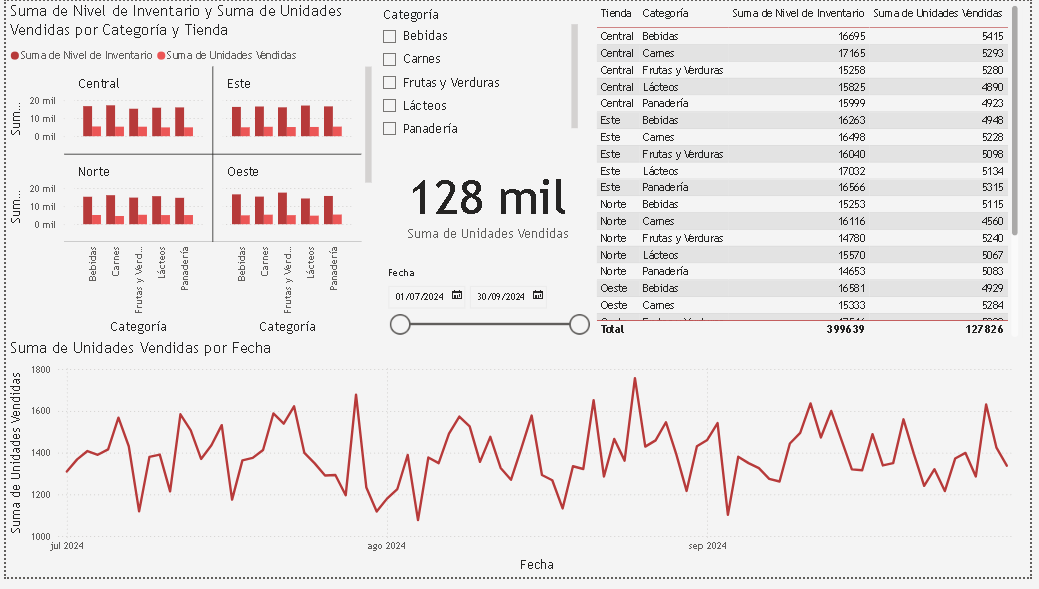

Layout of this report page (visuals, bound fields, positions):
{"tool":"powerbi","page":{"name":"Página 1","canvas":[1280,720],"ordinal":0},"visuals":[{"type":"card","fields":{"Values":["Sum(Supermecado.Unidades Vendidas)"]},"box":[471.2,176.2,261.2,150],"z":0},{"type":"slicer","fields":{"Values":["Supermecado.Fecha"]},"box":[465,326.2,273.8,95],"z":1000},{"type":"slicer","fields":{"Values":["Supermecado.Categoría"]},"box":[458.8,0,261.2,176.2],"z":2000},{"type":"tableEx","fields":{"Values":["Supermecado.Tienda","Supermecado.Categoría","Sum(Supermecado.Nivel de Inventario)","Sum(Supermecado.Unidades Vendidas)"]},"box":[732.5,0,538.5,425.4],"z":3000},{"type":"clusteredColumnChart","fields":{"Y":["Sum(Supermecado.Nivel de Inventario)","Sum(Supermecado.Unidades Vendidas)"],"Category":["Supermecado.Categoría"],"Rows":["Supermecado.Tienda"]},"box":[0,0,462.5,425],"z":4000},{"type":"lineChart","fields":{"Y":["Sum(Supermecado.Unidades Vendidas)"],"Category":["Supermecado.Fecha"]},"box":[0,425.4,1280,294.3],"z":5000}]}

Visuals, with their boxes in screenshot pixels (x1, y1, x2, y2), scaled from the page's 1280x720 canvas onto the 1039x589 screenshot:
card - Sum(Supermecado.Unidades Vendidas): locate(382, 144, 595, 267)
slicer - Supermecado.Fecha: locate(377, 267, 600, 345)
slicer - Supermecado.Categoría: locate(372, 0, 584, 144)
tableEx - Supermecado.Tienda x Supermecado.Categoría: locate(595, 0, 1032, 348)
clusteredColumnChart - Sum(Supermecado.Nivel de Inventario) x Sum(Supermecado.Unidades Vendidas): locate(0, 0, 375, 348)
lineChart - Sum(Supermecado.Unidades Vendidas) x Supermecado.Fecha: locate(0, 348, 1038, 588)
